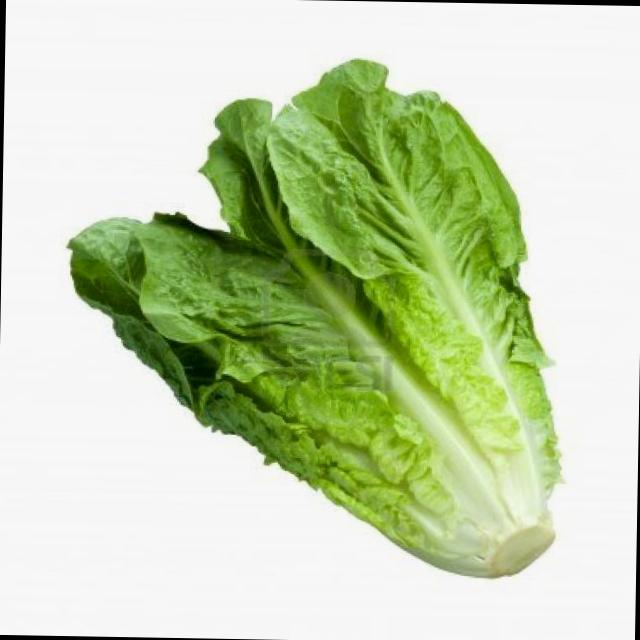Lettuce-Ready-to-Harvest: (65, 60, 561, 582)
